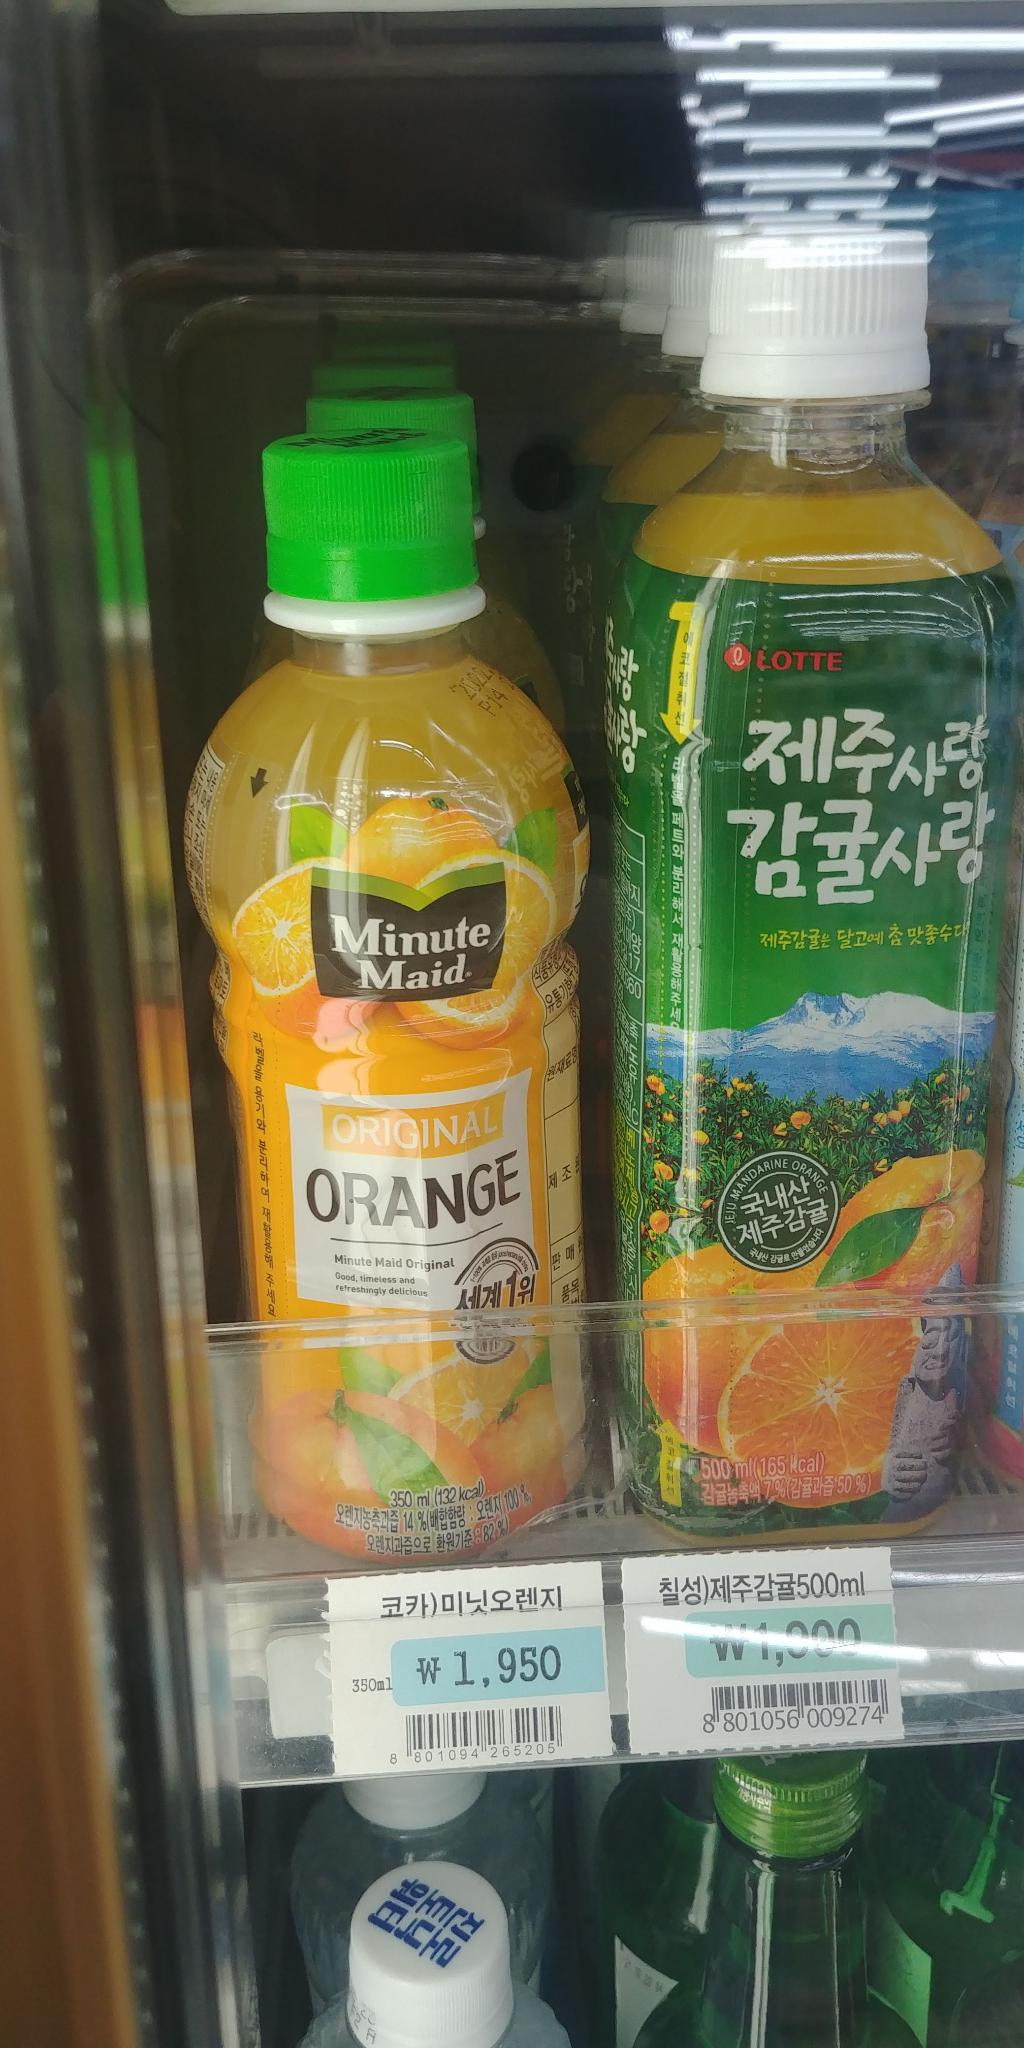minutemaid_org_orange: (178, 414, 624, 1573)
